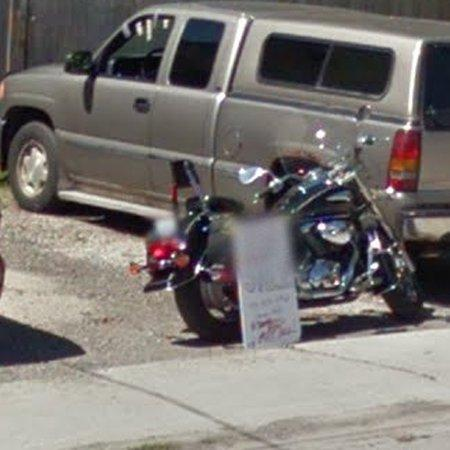motorcycles: (142, 106, 427, 335)
